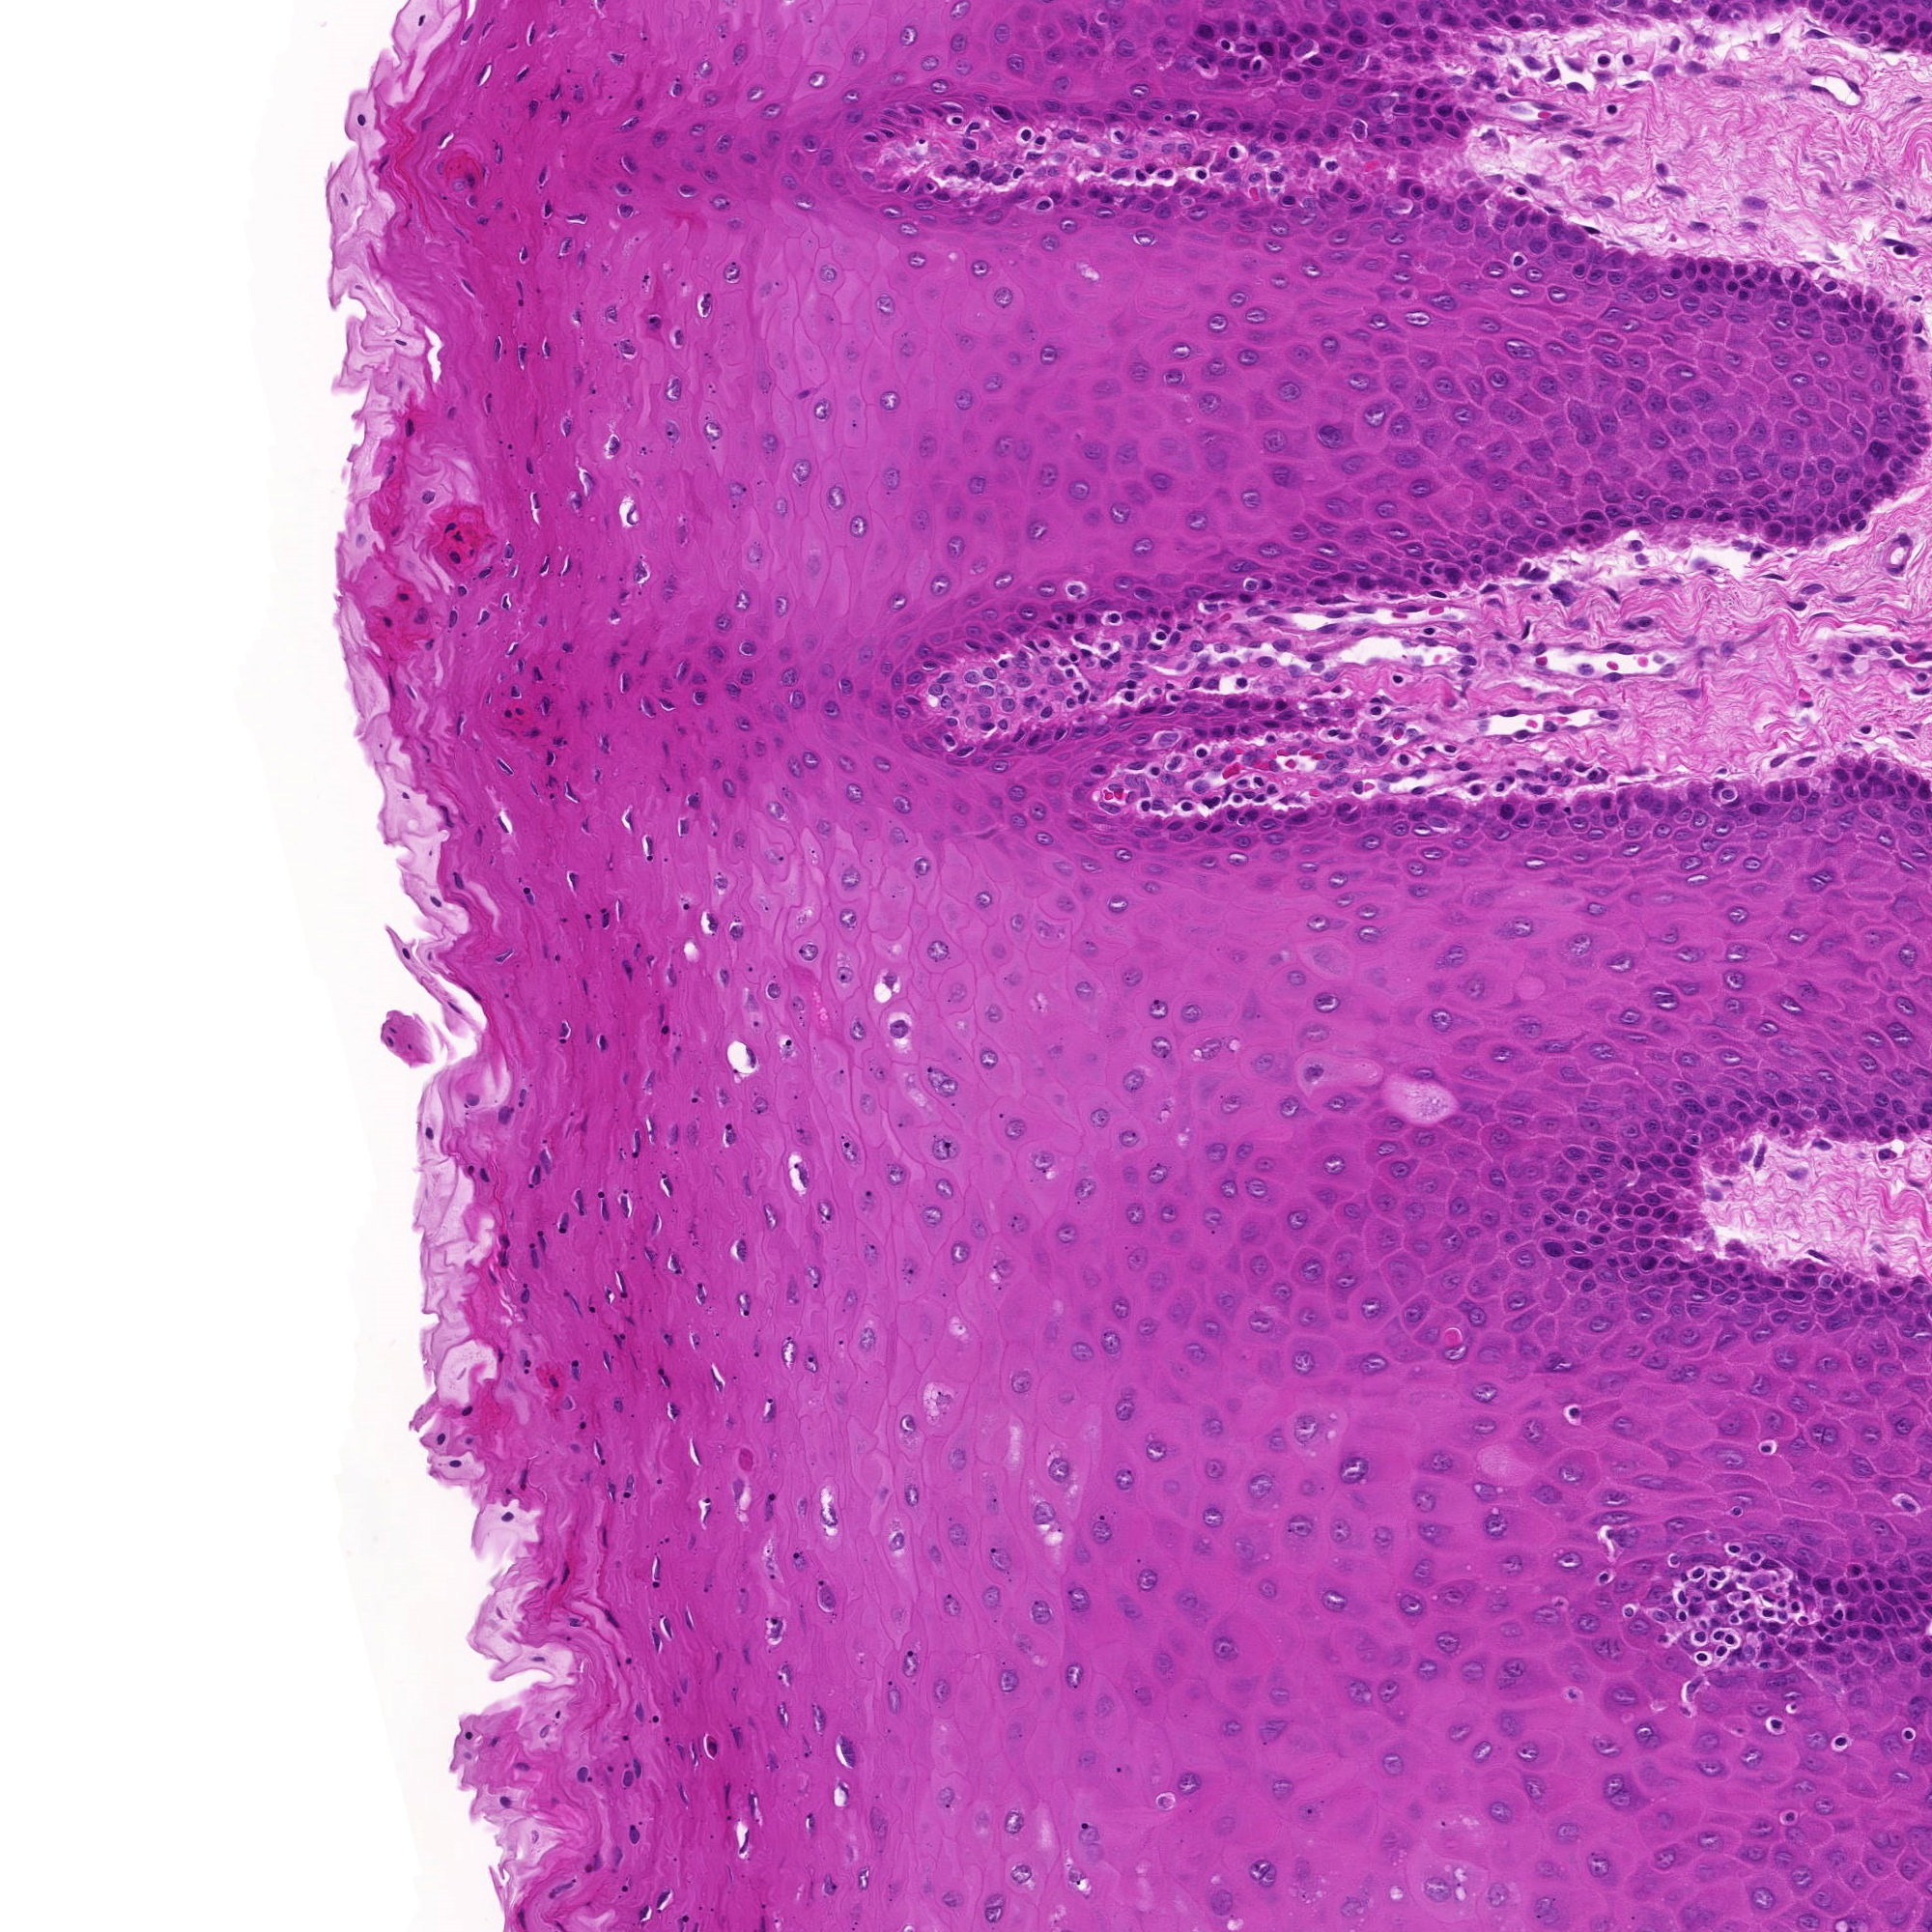epithelial: (1277, 42, 1309, 76), (1079, 713, 1111, 747), (1679, 260, 1713, 292), (1580, 241, 1612, 274), (1548, 218, 1582, 249), (1796, 513, 1829, 545), (1647, 1152, 1681, 1184), (1587, 1182, 1619, 1215), (455, 163, 487, 195), (366, 149, 398, 180), (456, 1085, 488, 1116), (722, 37, 754, 69), (660, 372, 692, 403), (941, 27, 973, 58), (874, 99, 906, 131), (909, 186, 941, 218), (681, 111, 713, 143), (655, 416, 686, 448), (773, 166, 805, 198), (520, 407, 552, 439), (837, 88, 869, 120), (800, 60, 832, 92), (748, 364, 780, 396), (568, 690, 600, 722), (518, 717, 550, 748), (732, 632, 764, 663), (915, 648, 947, 679), (589, 727, 621, 759), (915, 727, 947, 759), (488, 750, 520, 782), (610, 665, 642, 697), (870, 653, 902, 685), (628, 642, 660, 674), (743, 731, 775, 763), (844, 510, 876, 541), (485, 941, 517, 973), (727, 759, 759, 791), (883, 1012, 915, 1044), (488, 1099, 520, 1131), (603, 1322, 635, 1353), (879, 1157, 911, 1189), (720, 1718, 752, 1750), (665, 1776, 697, 1808), (589, 1518, 621, 1550), (731, 1637, 763, 1668), (862, 1808, 893, 1840), (692, 1493, 724, 1525), (718, 1675, 750, 1707), (1272, 27, 1304, 58), (1277, 58, 1309, 90), (1357, 71, 1389, 103), (1405, 76, 1437, 108), (1316, 16, 1348, 48), (1263, 119, 1295, 150), (1129, 99, 1161, 131), (1387, 81, 1419, 113), (1389, 124, 1421, 156), (1000, 48, 1031, 80), (1295, 55, 1327, 87), (1148, 195, 1180, 226), (1164, 88, 1196, 120), (1410, 120, 1442, 152), (1361, 88, 1392, 120), (1079, 16, 1111, 48), (1293, 23, 1325, 55), (1346, 97, 1378, 129), (1231, 202, 1263, 234), (1077, 27, 1109, 58), (1233, 340, 1265, 372), (1212, 96, 1244, 127), (1272, 184, 1304, 216), (984, 16, 1016, 48), (1166, 50, 1198, 81), (1210, 55, 1242, 87), (1231, 55, 1263, 87), (1323, 170, 1355, 202), (1265, 110, 1297, 142), (1309, 51, 1341, 83), (1201, 34, 1233, 65), (1361, 50, 1392, 81), (1141, 175, 1173, 207), (1182, 195, 1214, 226), (1318, 39, 1350, 71), (1387, 103, 1419, 134), (1086, 193, 1118, 225), (1168, 172, 1200, 203), (1254, 46, 1286, 78), (1129, 218, 1161, 249), (962, 464, 994, 495), (1256, 228, 1288, 260), (1410, 193, 1442, 225), (1286, 188, 1318, 219), (1306, 568, 1338, 600), (1129, 577, 1161, 609), (1371, 564, 1403, 596), (1215, 796, 1247, 828), (1327, 796, 1359, 828), (1131, 694, 1162, 725), (1001, 612, 1033, 644), (1224, 715, 1256, 747), (1412, 550, 1444, 582), (1364, 794, 1396, 826), (1325, 575, 1357, 607), (1338, 550, 1369, 582), (1042, 591, 1074, 623), (1030, 573, 1062, 605), (1309, 511, 1341, 543), (1196, 589, 1228, 621), (980, 786, 1012, 817), (1256, 821, 1288, 853), (1394, 543, 1426, 575), (1108, 839, 1139, 870), (1272, 801, 1304, 833), (1039, 602, 1070, 633), (1244, 801, 1276, 833), (1421, 805, 1453, 837), (1224, 837, 1256, 869), (959, 582, 991, 614), (1166, 591, 1198, 623), (1378, 1106, 1410, 1138), (1284, 1203, 1316, 1235), (1152, 1194, 1184, 1226), (1408, 1122, 1440, 1154), (1104, 1290, 1136, 1322), (1118, 1200, 1150, 1231), (1093, 1327, 1125, 1359), (1051, 1214, 1083, 1246), (1320, 1154, 1352, 1185), (1198, 1410, 1230, 1442), (1357, 1286, 1389, 1318), (1000, 1205, 1031, 1237), (1247, 1854, 1279, 1886), (975, 1895, 1007, 1927), (1196, 1497, 1228, 1529), (1054, 1658, 1086, 1690), (1343, 1458, 1375, 1490), (1001, 1808, 1033, 1840), (1368, 1522, 1399, 1553), (1088, 1518, 1120, 1550), (1007, 1854, 1039, 1886), (1865, 433, 1897, 465), (1520, 228, 1552, 260), (1780, 271, 1812, 303), (1548, 235, 1580, 267), (1867, 333, 1898, 364), (1881, 449, 1913, 481), (1562, 253, 1594, 285), (1601, 249, 1633, 281), (1619, 370, 1651, 402), (1661, 455, 1693, 487), (1794, 455, 1826, 487), (1773, 456, 1805, 488), (1500, 334, 1532, 366), (1714, 414, 1746, 446), (1867, 402, 1898, 433), (1789, 402, 1821, 433), (1879, 2, 1911, 34), (1477, 2, 1509, 34), (1851, 318, 1882, 350), (1895, 410, 1927, 442), (1610, 265, 1642, 297), (1729, 437, 1760, 469), (1755, 444, 1787, 476), (1633, 278, 1665, 310), (1709, 462, 1741, 494), (1591, 242, 1622, 274), (1491, 191, 1523, 223), (1465, 216, 1497, 248), (1619, 246, 1651, 278), (1771, 384, 1803, 416), (1739, 272, 1771, 304), (1499, 400, 1530, 432), (1882, 366, 1914, 398), (1591, 435, 1622, 467), (1472, 306, 1504, 338), (1626, 389, 1658, 421), (1479, 356, 1511, 387), (1713, 278, 1744, 310), (1571, 504, 1603, 536), (1741, 791, 1773, 823), (1679, 495, 1711, 527), (1598, 495, 1629, 527), (1476, 533, 1507, 564), (1829, 502, 1861, 534), (1658, 497, 1690, 529), (1833, 759, 1865, 791), (1589, 786, 1621, 817), (1718, 789, 1750, 821), (1771, 778, 1803, 810), (1821, 510, 1852, 541), (1789, 502, 1821, 534), (1730, 495, 1762, 527), (1752, 492, 1783, 524), (1456, 552, 1488, 584), (1884, 789, 1916, 821), (1502, 527, 1534, 559), (1608, 508, 1640, 540), (1476, 552, 1507, 584), (1509, 485, 1541, 517), (1805, 860, 1836, 892), (1594, 803, 1626, 835), (1511, 518, 1543, 550), (1859, 796, 1891, 828), (1527, 504, 1559, 536), (1649, 793, 1681, 824), (1484, 536, 1516, 568), (1771, 485, 1803, 517), (1748, 786, 1780, 817), (1445, 547, 1477, 579), (1453, 810, 1484, 842), (1879, 782, 1911, 814), (1723, 800, 1755, 832), (1603, 800, 1635, 832), (1775, 791, 1806, 823), (1497, 534, 1529, 566), (1539, 796, 1571, 828), (1619, 823, 1651, 855), (1502, 513, 1534, 545), (1624, 479, 1656, 511), (1681, 801, 1713, 833), (1569, 839, 1601, 870), (1714, 835, 1746, 867), (1619, 789, 1651, 821), (1633, 1247, 1665, 1279), (1629, 1212, 1661, 1244), (1644, 1145, 1675, 1177), (1608, 1207, 1640, 1238), (1652, 1246, 1684, 1277), (1656, 1200, 1688, 1231), (1612, 1146, 1644, 1178), (1663, 1157, 1695, 1189), (1679, 1093, 1711, 1125), (1559, 1138, 1591, 1169), (1548, 1192, 1580, 1224), (1881, 1274, 1913, 1306), (1865, 1083, 1897, 1115), (1562, 1230, 1594, 1261), (1589, 1131, 1621, 1162), (1615, 1258, 1647, 1290), (1884, 1408, 1916, 1440), (1592, 1192, 1624, 1224), (1571, 1253, 1603, 1284), (1725, 1085, 1757, 1116), (1824, 1108, 1856, 1139), (1667, 1210, 1698, 1242), (1633, 1237, 1665, 1269), (1723, 1253, 1755, 1284), (1559, 1253, 1591, 1284), (1766, 1300, 1798, 1332), (1479, 1161, 1511, 1192), (1474, 1203, 1506, 1235), (1704, 1253, 1736, 1284), (1812, 1348, 1844, 1380), (1759, 1106, 1790, 1138), (1886, 1102, 1918, 1134), (1486, 1035, 1518, 1067), (1665, 1134, 1697, 1166), (1844, 1345, 1875, 1376), (1856, 1293, 1888, 1325), (1672, 1357, 1704, 1389), (1661, 1116, 1693, 1148), (1771, 1348, 1803, 1380), (1757, 1405, 1789, 1437), (1640, 1210, 1672, 1242), (1750, 1100, 1782, 1132), (1484, 1122, 1516, 1154), (1566, 1200, 1598, 1231), (1509, 1242, 1541, 1274), (1663, 1269, 1695, 1300), (1587, 1306, 1619, 1338), (1707, 1327, 1739, 1359), (1897, 1368, 1928, 1399), (1626, 1300, 1658, 1332), (1454, 1215, 1486, 1247), (1897, 1108, 1928, 1139), (1755, 1309, 1787, 1341), (1845, 1272, 1877, 1304), (1891, 1021, 1923, 1053), (1599, 1254, 1631, 1286), (1741, 1320, 1773, 1352), (1541, 1201, 1573, 1233), (1881, 1297, 1913, 1329), (1835, 1284, 1867, 1316), (1888, 1300, 1920, 1332), (1713, 1086, 1744, 1118), (1454, 1090, 1486, 1122), (1851, 1300, 1882, 1332), (1757, 1062, 1789, 1093), (1852, 1348, 1884, 1380), (1661, 1277, 1693, 1309), (1766, 1290, 1798, 1322), (1555, 1261, 1587, 1293), (1644, 978, 1675, 1010), (1750, 1074, 1782, 1106), (1640, 1242, 1672, 1274), (1509, 1293, 1541, 1325), (1836, 1615, 1868, 1647), (1863, 1569, 1895, 1601), (1847, 1569, 1879, 1601), (1805, 1612, 1836, 1644), (1752, 1548, 1783, 1580), (1798, 1633, 1829, 1665), (375, 1017, 405, 1051), (685, 127, 715, 161), (1201, 48, 1235, 78), (1178, 50, 1212, 80), (1185, 179, 1219, 209), (1157, 104, 1191, 134), (1348, 69, 1382, 99), (1401, 534, 1431, 568), (1254, 807, 1284, 840), (1185, 711, 1215, 745), (1679, 280, 1713, 310), (1752, 278, 1782, 311), (1782, 364, 1815, 395), (1882, 770, 1913, 803), (1612, 803, 1642, 837), (1812, 1277, 1842, 1311), (1674, 1086, 1704, 1120), (1799, 1100, 1833, 1131), (1635, 1173, 1665, 1207), (425, 152, 456, 182), (464, 58, 494, 90), (375, 453, 405, 485), (458, 180, 488, 212), (453, 269, 483, 301), (435, 396, 467, 426), (442, 708, 474, 738), (708, 127, 740, 157), (506, 338, 538, 368), (925, 180, 957, 211), (934, 94, 964, 126), (734, 142, 764, 173), (897, 94, 927, 126), (759, 122, 789, 154), (481, 331, 511, 363), (695, 83, 727, 113), (671, 173, 702, 203), (517, 92, 548, 122), (888, 170, 918, 202), (922, 96, 954, 126), (755, 426, 786, 458), (483, 138, 513, 170), (616, 108, 646, 140), (552, 412, 582, 444), (911, 428, 941, 460), (885, 97, 916, 127), (924, 69, 954, 101), (663, 71, 694, 103), (823, 165, 853, 196), (780, 143, 812, 173), (510, 237, 540, 269), (738, 76, 768, 108), (807, 396, 839, 426), (893, 18, 924, 50), (754, 94, 786, 124), (901, 103, 931, 134), (566, 241, 596, 272), (531, 688, 563, 718), (701, 637, 732, 667), (727, 708, 759, 738), (782, 683, 814, 713), (499, 676, 529, 708), (625, 554, 655, 586), (598, 642, 628, 674), (711, 773, 743, 803), (529, 550, 561, 580), (563, 485, 593, 517), (492, 697, 522, 729), (904, 851, 936, 881), (939, 495, 970, 527), (886, 697, 918, 727), (796, 743, 826, 775), (881, 584, 913, 614), (554, 550, 584, 582), (522, 485, 552, 517), (764, 697, 794, 729), (770, 637, 800, 669), (849, 678, 879, 709), (924, 628, 955, 658), (727, 584, 759, 614), (727, 1233, 757, 1265), (757, 975, 789, 1005), (842, 1014, 874, 1044), (635, 1063, 665, 1095), (639, 1207, 669, 1238), (895, 1407, 925, 1438), (709, 959, 740, 991), (731, 1169, 763, 1200), (568, 1109, 598, 1141), (658, 961, 688, 993), (833, 1131, 865, 1161), (658, 1118, 690, 1148), (745, 1093, 775, 1125), (801, 1265, 833, 1295), (895, 1254, 927, 1284), (805, 1702, 837, 1732), (812, 1582, 842, 1614), (883, 1523, 915, 1553), (794, 1806, 826, 1836), (667, 1734, 697, 1766), (895, 1479, 927, 1509), (722, 1474, 752, 1506), (816, 1500, 847, 1530), (927, 1674, 959, 1704), (847, 1861, 878, 1893), (672, 1605, 702, 1637), (1191, 16, 1223, 46), (1235, 14, 1267, 44), (1341, 21, 1371, 53), (1242, 50, 1272, 81), (1405, 97, 1437, 127), (1311, 34, 1343, 64), (1228, 48, 1258, 80), (1371, 4, 1403, 34), (1231, 34, 1263, 64), (1387, 92, 1417, 124), (1405, 106, 1435, 138), (1215, 12, 1246, 44), (1212, 46, 1244, 76), (1384, 18, 1415, 48), (1210, 28, 1240, 60), (1315, 60, 1346, 90), (1203, 110, 1233, 142), (1315, 418, 1346, 448), (1316, 117, 1348, 147), (1405, 87, 1435, 119), (1322, 5, 1353, 35), (1343, 193, 1373, 225), (1286, 120, 1318, 150), (1097, 101, 1127, 133), (1171, 106, 1201, 138), (1417, 186, 1447, 218), (1092, 182, 1122, 214), (1185, 34, 1215, 65), (1419, 78, 1449, 110), (1311, 182, 1341, 214), (1288, 34, 1320, 64), (1343, 4, 1373, 35), (1387, 405, 1417, 437), (1415, 18, 1445, 50), (1362, 122, 1392, 154), (1035, 338, 1067, 368), (1307, 39, 1338, 71), (1338, 41, 1369, 71), (1394, 74, 1424, 106), (1196, 180, 1228, 211), (1276, 375, 1307, 405), (1343, 113, 1373, 145), (1272, 50, 1302, 81), (1332, 85, 1362, 117), (1414, 345, 1445, 375), (1141, 88, 1171, 120), (1109, 90, 1141, 120), (1182, 19, 1214, 50), (1191, 386, 1223, 416), (1246, 117, 1276, 149), (1212, 67, 1244, 97), (1410, 37, 1442, 67), (1283, 27, 1315, 57), (1111, 437, 1141, 469), (1069, 9, 1099, 41), (1261, 34, 1292, 65), (1361, 395, 1392, 425), (1332, 12, 1364, 42), (1215, 35, 1246, 67), (1348, 27, 1380, 57), (1214, 188, 1246, 218), (1338, 448, 1368, 479), (1125, 354, 1155, 386), (1417, 115, 1447, 147), (1171, 96, 1201, 127), (1368, 73, 1399, 103), (1392, 37, 1424, 67), (1306, 58, 1336, 90), (1391, 242, 1421, 274), (1398, 196, 1430, 226), (1362, 304, 1394, 334), (1033, 460, 1065, 490), (1300, 120, 1332, 150), (1339, 57, 1369, 88), (1240, 25, 1270, 57), (1332, 30, 1362, 62), (1401, 186, 1431, 218), (1221, 281, 1253, 311), (1125, 71, 1155, 103), (1203, 444, 1233, 476), (1246, 195, 1277, 225), (1223, 65, 1253, 97), (1145, 464, 1175, 495), (1224, 28, 1256, 58), (1373, 96, 1405, 126), (984, 432, 1016, 462), (1122, 184, 1152, 216), (1265, 264, 1295, 295), (1072, 180, 1102, 212), (1100, 188, 1132, 218), (1408, 464, 1438, 495), (1290, 42, 1322, 73), (1380, 219, 1412, 249), (1086, 106, 1118, 136), (989, 281, 1021, 311), (1325, 241, 1357, 271), (1288, 60, 1318, 92), (1279, 113, 1311, 143), (1369, 278, 1399, 310), (1348, 48, 1378, 80), (1265, 212, 1295, 244), (1304, 188, 1334, 219), (1224, 188, 1254, 219), (1325, 563, 1357, 593), (1281, 805, 1313, 835), (1401, 800, 1431, 832), (1224, 690, 1256, 720), (1231, 552, 1263, 582), (1343, 520, 1375, 550), (1304, 550, 1336, 580), (1017, 725, 1049, 755), (1200, 580, 1231, 610), (1235, 798, 1267, 828), (1132, 598, 1164, 628), (1228, 582, 1260, 612), (1361, 543, 1392, 573), (1185, 810, 1217, 840), (1214, 713, 1244, 745), (984, 623, 1014, 655), (1284, 517, 1315, 548), (1373, 793, 1403, 824), (1063, 717, 1095, 747), (1012, 594, 1042, 626), (1316, 566, 1348, 596), (1201, 717, 1231, 748), (1150, 598, 1180, 630), (1215, 686, 1246, 718), (1062, 807, 1092, 839), (1336, 801, 1368, 832), (1396, 556, 1426, 587), (1019, 513, 1051, 543), (1127, 722, 1157, 754), (1097, 731, 1127, 763), (1024, 796, 1054, 828), (1384, 814, 1415, 844), (1127, 817, 1159, 847), (1226, 803, 1256, 835), (1233, 571, 1263, 603), (1194, 697, 1226, 727), (1007, 607, 1039, 637), (1044, 718, 1076, 748), (961, 628, 991, 660), (1272, 699, 1302, 731), (1178, 502, 1210, 533), (1037, 764, 1069, 794), (1003, 805, 1033, 837), (1191, 582, 1223, 612), (1125, 534, 1157, 564), (1141, 807, 1171, 839), (1171, 584, 1201, 616), (1343, 563, 1375, 593), (1164, 694, 1196, 724), (1253, 531, 1283, 563), (1106, 499, 1138, 529), (1401, 876, 1433, 906), (1217, 814, 1247, 846), (1102, 890, 1132, 922), (984, 748, 1016, 778), (959, 616, 991, 646), (1373, 552, 1403, 584), (1419, 538, 1449, 570), (1077, 501, 1108, 533), (1408, 805, 1440, 835), (1065, 775, 1097, 805), (1169, 821, 1201, 851), (1361, 568, 1392, 598), (1297, 575, 1329, 605), (1279, 577, 1311, 607), (1139, 605, 1171, 635), (962, 745, 994, 775), (1210, 699, 1240, 731), (1196, 563, 1226, 594), (1185, 697, 1215, 729), (1178, 708, 1210, 738), (1028, 722, 1060, 752), (1267, 571, 1299, 602), (1407, 853, 1437, 885), (968, 885, 998, 916), (1421, 554, 1451, 586), (1290, 801, 1322, 832), (1240, 561, 1270, 593), (1394, 809, 1424, 840), (1267, 821, 1299, 851), (1221, 554, 1253, 584), (1385, 1154, 1417, 1184), (1401, 1297, 1433, 1327), (1297, 1253, 1327, 1284), (1267, 1277, 1299, 1307), (1307, 984, 1338, 1016), (1371, 1185, 1401, 1217), (1233, 1219, 1265, 1249), (1338, 1196, 1368, 1228), (1226, 1136, 1258, 1166), (1242, 1249, 1274, 1279), (1327, 1086, 1357, 1118), (1405, 1230, 1435, 1261), (1274, 1088, 1304, 1120), (1357, 1346, 1387, 1378), (1414, 1058, 1444, 1090), (1148, 1035, 1178, 1067), (1246, 1304, 1276, 1336), (1194, 1313, 1226, 1343), (1295, 1300, 1325, 1332), (1414, 1318, 1444, 1350), (1318, 1146, 1350, 1177), (1419, 1003, 1449, 1035), (1182, 1338, 1214, 1368), (1067, 1173, 1099, 1203), (1132, 1313, 1164, 1343), (1244, 1173, 1276, 1203), (1118, 1069, 1150, 1099), (1115, 1120, 1145, 1152), (1067, 973, 1099, 1003), (1378, 1131, 1410, 1161), (1249, 1046, 1281, 1076), (1005, 1369, 1037, 1399), (994, 1665, 1026, 1695), (1136, 1564, 1166, 1596), (1208, 1633, 1240, 1663), (1200, 1456, 1231, 1486), (1203, 1888, 1235, 1918), (1343, 1672, 1375, 1702), (1024, 1596, 1056, 1626), (1394, 1589, 1424, 1621), (1127, 1679, 1159, 1709), (1148, 1647, 1180, 1677), (1086, 1509, 1118, 1539), (1065, 1589, 1095, 1621), (1373, 1672, 1405, 1702), (1108, 1465, 1139, 1495), (1415, 1516, 1445, 1548), (1047, 1454, 1077, 1486), (1414, 1652, 1444, 1684), (1405, 1557, 1437, 1587), (1024, 1500, 1056, 1530), (1267, 1771, 1297, 1803), (1293, 1796, 1325, 1826), (1185, 1532, 1217, 1562), (982, 1537, 1012, 1569), (1316, 1578, 1348, 1608), (1716, 271, 1748, 301), (1684, 271, 1716, 301), (1660, 258, 1691, 288), (1826, 288, 1856, 320), (1734, 267, 1764, 299), (1808, 449, 1838, 481), (1897, 396, 1927, 428), (1796, 299, 1828, 329), (1851, 303, 1881, 334), (1868, 303, 1898, 334), (1582, 258, 1612, 290), (1599, 262, 1631, 292), (1534, 368, 1564, 400), (1642, 425, 1674, 455), (1882, 324, 1913, 356), (1506, 203, 1536, 235), (1484, 364, 1516, 395), (1872, 462, 1902, 494), (1895, 18, 1927, 48), (1571, 257, 1603, 287), (1447, 207, 1477, 239), (1688, 382, 1718, 414), (1842, 287, 1874, 317), (1675, 253, 1706, 285), (1665, 412, 1697, 442), (1888, 444, 1918, 476), (1744, 414, 1775, 446), (1520, 203, 1552, 234), (1592, 407, 1622, 439), (1854, 292, 1886, 322), (1859, 326, 1890, 357), (1897, 435, 1928, 465), (1525, 433, 1555, 465), (1877, 310, 1907, 341), (1859, 306, 1890, 338), (1865, 449, 1897, 479), (1675, 287, 1706, 318), (1461, 7, 1493, 37), (1479, 435, 1511, 465), (1842, 299, 1874, 329), (1769, 295, 1799, 327), (1895, 384, 1927, 414), (1681, 439, 1713, 469), (1541, 225, 1573, 255), (1663, 391, 1695, 421), (1479, 251, 1511, 281), (1819, 320, 1849, 352), (1445, 5, 1477, 35), (1736, 458, 1767, 488), (1721, 301, 1752, 333), (1813, 287, 1844, 318), (1775, 421, 1805, 453), (1698, 294, 1729, 326), (1486, 203, 1516, 235), (1704, 264, 1734, 295), (1672, 356, 1704, 386), (1854, 428, 1884, 460), (1621, 345, 1652, 375), (1548, 462, 1580, 492), (1897, 423, 1927, 455), (1842, 380, 1874, 410), (1803, 274, 1835, 304), (1456, 184, 1488, 214), (1541, 276, 1571, 308), (1562, 402, 1594, 432), (1461, 373, 1491, 405), (1805, 288, 1835, 320), (1507, 449, 1537, 481), (1608, 244, 1640, 274), (1596, 297, 1626, 329), (1596, 345, 1626, 377), (1453, 271, 1484, 301), (1845, 5, 1875, 37), (1773, 281, 1805, 311), (1591, 322, 1622, 352), (1790, 318, 1822, 349), (1838, 456, 1868, 488), (1707, 297, 1739, 327), (1872, 442, 1904, 472), (1652, 322, 1684, 352), (1619, 379, 1649, 410), (1645, 55, 1677, 85), (1845, 423, 1877, 453), (1867, 414, 1898, 444), (1881, 437, 1911, 469), (1881, 426, 1913, 456), (1704, 287, 1734, 318), (1594, 418, 1624, 449), (1557, 322, 1587, 354), (1720, 290, 1750, 322), (1801, 426, 1831, 458), (1789, 292, 1819, 324), (1437, 287, 1467, 318), (1810, 464, 1842, 494), (1502, 271, 1532, 303), (1537, 407, 1569, 437), (1661, 356, 1693, 386), (1704, 416, 1736, 446), (1642, 276, 1674, 306), (1665, 310, 1697, 340), (1536, 235, 1568, 265), (1451, 375, 1483, 405), (1755, 269, 1787, 299), (1872, 19, 1904, 50), (1578, 499, 1608, 531), (1890, 778, 1920, 810), (1709, 501, 1741, 531), (1759, 515, 1790, 545), (1458, 543, 1490, 573), (1840, 479, 1872, 510), (1530, 527, 1562, 557), (1893, 770, 1923, 801), (1507, 805, 1539, 835), (1658, 791, 1690, 821), (1700, 488, 1732, 518), (1798, 782, 1828, 814), (1642, 488, 1672, 520), (1637, 789, 1667, 821), (1865, 770, 1897, 800), (1490, 796, 1522, 826), (1575, 513, 1605, 545), (1844, 766, 1874, 798), (1628, 504, 1658, 536), (1782, 775, 1813, 805), (1493, 543, 1525, 573), (1845, 490, 1877, 520), (1628, 784, 1658, 816), (1456, 527, 1486, 559), (1821, 786, 1851, 817), (1598, 483, 1629, 513), (1606, 791, 1637, 823), (1564, 805, 1594, 837), (1495, 506, 1525, 538), (1562, 513, 1594, 543), (1773, 520, 1805, 550), (1803, 495, 1833, 527), (1757, 777, 1789, 807), (1875, 761, 1905, 793), (1870, 821, 1900, 853), (1534, 805, 1564, 837), (1693, 826, 1725, 856), (1587, 502, 1617, 534), (1594, 794, 1624, 826), (1541, 520, 1571, 552), (1481, 816, 1511, 847), (1799, 865, 1829, 897), (1612, 497, 1642, 529), (1619, 810, 1649, 842), (1714, 798, 1744, 830), (1886, 885, 1918, 915), (1897, 793, 1927, 824), (1569, 789, 1599, 821), (1891, 941, 1923, 971), (1852, 759, 1884, 789), (1709, 807, 1739, 839), (1645, 497, 1677, 527), (1437, 796, 1468, 826), (1829, 485, 1859, 517), (1859, 775, 1891, 805), (1516, 801, 1548, 832), (1467, 538, 1499, 568), (1672, 791, 1702, 823), (1619, 492, 1649, 524), (1690, 499, 1720, 531), (1539, 814, 1569, 846), (1778, 511, 1810, 541), (1813, 828, 1844, 860), (1477, 504, 1509, 534), (1672, 847, 1704, 878), (1902, 775, 1932, 807), (1759, 483, 1790, 513), (1766, 786, 1796, 817), (1495, 803, 1527, 833), (1507, 533, 1539, 563), (1573, 487, 1603, 518), (1642, 807, 1672, 839), (1656, 920, 1688, 950), (1727, 936, 1757, 968), (1525, 809, 1557, 839), (1759, 791, 1789, 823), (1447, 800, 1479, 830), (1614, 832, 1645, 862), (1624, 1196, 1656, 1226), (1683, 1261, 1713, 1293), (1654, 1131, 1684, 1162), (1598, 1246, 1628, 1277), (1656, 1261, 1688, 1292), (1637, 1184, 1668, 1214), (1608, 1194, 1640, 1224), (1675, 1132, 1707, 1162), (1769, 1083, 1801, 1113), (1845, 1106, 1877, 1136), (1852, 1279, 1882, 1311), (1812, 1093, 1842, 1125), (1647, 1230, 1679, 1260), (1888, 1115, 1918, 1146), (1821, 1269, 1851, 1300), (1863, 1095, 1895, 1125), (1882, 1016, 1914, 1046), (1580, 1224, 1612, 1254), (1573, 1269, 1603, 1300), (1534, 1203, 1564, 1235), (1580, 1157, 1612, 1187), (1730, 1102, 1762, 1132), (1734, 1265, 1764, 1297), (1606, 1244, 1637, 1276), (1714, 1263, 1746, 1293), (1720, 1090, 1750, 1122), (1695, 1247, 1727, 1277), (1752, 1279, 1783, 1309), (1568, 1162, 1599, 1192), (1534, 1178, 1564, 1210), (1589, 1143, 1619, 1175), (1589, 1201, 1621, 1231), (1867, 1332, 1897, 1364), (1619, 1210, 1651, 1240), (1867, 1109, 1897, 1141), (1610, 1230, 1642, 1260), (1808, 1290, 1840, 1320), (1686, 1276, 1716, 1307), (1493, 1223, 1525, 1253), (1559, 1178, 1591, 1208), (1854, 1047, 1886, 1077), (1651, 1178, 1681, 1210), (1654, 1210, 1686, 1240), (1697, 1118, 1727, 1150), (1665, 1097, 1695, 1129), (1645, 1263, 1675, 1295), (1640, 1281, 1672, 1311), (1504, 1284, 1536, 1315), (1534, 1108, 1566, 1138), (1534, 1215, 1564, 1247), (1759, 1095, 1789, 1127), (1454, 1293, 1484, 1325), (1704, 1106, 1736, 1136), (1831, 1272, 1863, 1302), (1746, 1369, 1778, 1399), (1794, 1076, 1824, 1108), (1741, 1279, 1773, 1309), (1874, 1290, 1904, 1322), (1628, 1187, 1658, 1219), (1792, 975, 1824, 1005), (1895, 1311, 1927, 1341), (1711, 1318, 1741, 1350), (1672, 1044, 1704, 1074), (1881, 1286, 1911, 1318), (1766, 1090, 1796, 1122), (1750, 1316, 1782, 1346), (1640, 1348, 1672, 1378), (1821, 1100, 1851, 1132), (1872, 1100, 1902, 1132), (1787, 1311, 1819, 1341), (1617, 1187, 1647, 1219), (1891, 1065, 1921, 1097), (1619, 1336, 1649, 1368), (1679, 1290, 1711, 1320), (1895, 1323, 1927, 1353), (1805, 1272, 1835, 1304), (1668, 1249, 1700, 1279), (1674, 1322, 1706, 1352), (1617, 1115, 1647, 1146), (1858, 1371, 1888, 1403), (1626, 1132, 1656, 1164), (1670, 1162, 1700, 1194), (1782, 1391, 1813, 1421), (1642, 1254, 1672, 1286), (1585, 1035, 1615, 1067), (1718, 1412, 1748, 1444), (1582, 1210, 1614, 1240), (1677, 1125, 1709, 1155), (1767, 1279, 1799, 1309), (1635, 1143, 1667, 1173), (1824, 1093, 1856, 1123), (1691, 1265, 1723, 1295), (1718, 1272, 1748, 1304), (1736, 1284, 1766, 1316), (1859, 1024, 1891, 1054), (1858, 1100, 1888, 1132), (1592, 1210, 1624, 1240), (1442, 1106, 1472, 1138), (1900, 1267, 1930, 1299), (1778, 1079, 1810, 1109), (1546, 1237, 1576, 1269), (1675, 973, 1707, 1003), (1635, 1200, 1667, 1230), (1635, 1120, 1665, 1152), (1721, 991, 1752, 1023), (1679, 1247, 1711, 1277), (1506, 1306, 1537, 1336), (1782, 1265, 1812, 1297), (1674, 1118, 1706, 1148), (1872, 1353, 1904, 1384), (1852, 1417, 1884, 1447), (1810, 1104, 1842, 1134), (1649, 1164, 1679, 1196), (1566, 1261, 1596, 1293), (1594, 1261, 1624, 1293), (1709, 1304, 1741, 1334), (1645, 1010, 1675, 1042), (1580, 1238, 1610, 1270), (1709, 1364, 1739, 1396), (1771, 1265, 1801, 1297), (1835, 1300, 1867, 1330), (1890, 1279, 1920, 1311), (1867, 1017, 1898, 1047), (1566, 1290, 1598, 1320), (1789, 1100, 1819, 1132), (1626, 1113, 1658, 1143), (1504, 1090, 1536, 1120), (1727, 1279, 1759, 1309), (1635, 1272, 1667, 1302), (1812, 1056, 1842, 1088), (1661, 1293, 1691, 1325), (1780, 1254, 1812, 1284), (1552, 1246, 1582, 1277), (1622, 1293, 1654, 1323), (1573, 1219, 1603, 1251), (1780, 1306, 1812, 1336), (1578, 1309, 1610, 1339), (1806, 1569, 1836, 1601), (1808, 1631, 1838, 1663), (1888, 1598, 1918, 1629), (1836, 1598, 1867, 1629), (1824, 1601, 1856, 1631), (1822, 1571, 1854, 1601), (1863, 1601, 1893, 1633), (1888, 1550, 1918, 1582), (1877, 1582, 1907, 1614), (1752, 1633, 1782, 1665), (1838, 1555, 1870, 1585), (1352, 191, 1385, 219), (1776, 987, 1805, 1021), (409, 108, 439, 138), (428, 122, 458, 152), (465, 205, 495, 235), (464, 819, 494, 849), (405, 602, 435, 632), (380, 517, 410, 547), (644, 122, 674, 152), (794, 126, 824, 156), (616, 149, 646, 179), (695, 159, 725, 189), (812, 142, 842, 172), (839, 101, 869, 131), (563, 80, 593, 110), (718, 257, 748, 287), (540, 78, 570, 108), (612, 333, 642, 363), (672, 150, 702, 180), (918, 184, 948, 214), (708, 188, 738, 218), (596, 299, 626, 329), (563, 361, 593, 391), (642, 163, 672, 193), (876, 198, 906, 228), (789, 184, 819, 214), (731, 662, 761, 692), (816, 692, 846, 722), (908, 635, 938, 665), (832, 669, 862, 699), (522, 658, 552, 688), (775, 662, 805, 692), (924, 644, 954, 674), (708, 607, 738, 637), (901, 662, 931, 692), (869, 692, 899, 722), (718, 674, 748, 704), (669, 655, 699, 685), (655, 571, 685, 602), (881, 665, 911, 695), (925, 566, 955, 596), (724, 824, 754, 855), (939, 531, 970, 561), (886, 791, 916, 821), (667, 518, 697, 548), (701, 748, 731, 778), (614, 501, 644, 531), (502, 697, 533, 727), (867, 748, 897, 778), (833, 904, 863, 934), (925, 669, 955, 699), (839, 780, 869, 810), (849, 639, 879, 669), (548, 1016, 579, 1046), (603, 1389, 633, 1419), (635, 1238, 665, 1269), (593, 1343, 623, 1373), (755, 1396, 786, 1426), (931, 1067, 961, 1097), (755, 1203, 786, 1233), (701, 1364, 731, 1394), (777, 1277, 807, 1307), (637, 1115, 667, 1145), (678, 1118, 708, 1148), (918, 1200, 948, 1230), (766, 1698, 796, 1729), (757, 1748, 787, 1778), (711, 1775, 741, 1805), (816, 1872, 846, 1902), (771, 1656, 801, 1686), (736, 1785, 766, 1815), (702, 1644, 732, 1674), (934, 1583, 964, 1614), (920, 1537, 950, 1568), (1251, 34, 1281, 64), (1270, 37, 1300, 67), (1295, 14, 1325, 44), (1330, 39, 1361, 69), (1300, 46, 1330, 76), (1192, 44, 1223, 74), (1231, 111, 1261, 142), (1286, 18, 1316, 48), (1368, 111, 1398, 142), (1037, 90, 1067, 120), (1336, 67, 1366, 97), (1297, 76, 1327, 106), (1394, 444, 1424, 474), (1145, 27, 1175, 57), (1039, 39, 1069, 69), (1109, 35, 1139, 65), (1338, 179, 1368, 209), (1033, 18, 1063, 48), (1067, 96, 1097, 126), (1316, 331, 1346, 361), (1200, 354, 1230, 384), (1046, 67, 1076, 97), (1159, 361, 1189, 391), (1113, 186, 1143, 216), (1327, 219, 1357, 249), (1001, 182, 1031, 212), (1269, 460, 1299, 490), (1382, 370, 1412, 400), (1077, 437, 1108, 467), (1099, 5, 1129, 35), (1035, 226, 1065, 257), (1295, 67, 1325, 97), (1286, 340, 1316, 370), (1258, 428, 1288, 458), (1240, 37, 1270, 67), (1408, 386, 1438, 416), (1256, 23, 1286, 53), (1074, 35, 1104, 65), (1201, 304, 1231, 334), (1371, 331, 1401, 361), (964, 83, 994, 113), (964, 191, 994, 221), (1361, 4, 1391, 34), (1373, 196, 1403, 226), (1346, 14, 1376, 44), (978, 202, 1008, 232), (1396, 110, 1426, 140), (1247, 19, 1277, 50), (1205, 182, 1235, 212), (1325, 28, 1355, 58), (1054, 211, 1085, 241), (1361, 212, 1391, 242), (964, 253, 994, 283), (1304, 28, 1334, 58), (1194, 25, 1224, 55), (1378, 111, 1408, 142), (1106, 97, 1136, 127), (1357, 402, 1387, 432), (1412, 561, 1442, 591), (1056, 603, 1086, 633), (1350, 568, 1380, 598), (1201, 812, 1231, 842), (1251, 570, 1281, 600), (1118, 600, 1148, 630), (1175, 692, 1205, 722), (1152, 695, 1182, 725), (1086, 589, 1116, 619), (973, 731, 1003, 761), (1277, 564, 1307, 594), (1352, 824, 1382, 855), (1419, 789, 1449, 819), (1304, 692, 1334, 722), (1385, 570, 1415, 600), (1161, 810, 1191, 840), (1384, 513, 1414, 543), (1108, 566, 1138, 596), (1318, 488, 1348, 518), (1313, 531, 1343, 561), (1419, 837, 1449, 867), (1408, 531, 1438, 561), (966, 502, 996, 533), (978, 630, 1008, 660), (1265, 704, 1295, 734), (1192, 846, 1223, 876), (1231, 701, 1261, 731), (1330, 556, 1361, 586), (989, 563, 1019, 593), (1237, 485, 1267, 515), (1108, 711, 1138, 741), (973, 598, 1003, 628), (1316, 545, 1346, 575), (1405, 554, 1435, 584), (1311, 1180, 1341, 1210), (1210, 1286, 1240, 1316), (1299, 1056, 1329, 1086), (1361, 1295, 1391, 1325), (1201, 1134, 1231, 1164), (1417, 1169, 1447, 1200), (1398, 1194, 1428, 1224), (1214, 1169, 1244, 1200), (1373, 1223, 1403, 1253), (1330, 1269, 1361, 1299), (1111, 1398, 1141, 1428), (1290, 1339, 1320, 1369), (1143, 1159, 1173, 1189), (1143, 991, 1173, 1021), (1290, 1405, 1320, 1435), (1086, 1100, 1116, 1131), (1164, 1299, 1194, 1329), (1115, 1159, 1145, 1189), (1001, 1113, 1031, 1143), (1200, 1203, 1230, 1233), (1028, 1148, 1058, 1178), (1215, 1713, 1246, 1743), (1258, 1711, 1288, 1741), (1286, 1511, 1316, 1541), (1173, 1585, 1203, 1615), (1322, 1589, 1352, 1619), (1334, 1445, 1364, 1476), (1060, 1582, 1090, 1612), (1113, 1594, 1143, 1624), (1254, 1575, 1284, 1605), (1246, 1465, 1276, 1495), (1378, 1746, 1408, 1776), (1062, 1863, 1092, 1893), (1783, 285, 1813, 315), (1895, 4, 1925, 34), (1729, 280, 1759, 310), (1890, 419, 1920, 449), (1861, 14, 1891, 44), (1449, 196, 1479, 226), (1831, 306, 1861, 336), (1690, 253, 1720, 283), (1881, 25, 1911, 55), (1760, 278, 1790, 308), (1882, 347, 1913, 377), (1882, 336, 1913, 366), (1539, 214, 1569, 244), (1836, 4, 1867, 34), (1826, 462, 1856, 492), (1642, 389, 1672, 419), (1695, 269, 1725, 299), (1854, 464, 1884, 494), (1573, 423, 1603, 453), (1652, 272, 1683, 303), (1562, 223, 1592, 253), (1842, 416, 1872, 446), (1840, 320, 1870, 350), (1806, 345, 1836, 375), (1633, 262, 1663, 292), (1614, 389, 1644, 419), (1863, 5, 1893, 35), (1720, 343, 1750, 373), (1817, 453, 1847, 483), (1796, 280, 1826, 310), (1622, 267, 1652, 297), (1881, 12, 1911, 42), (1767, 345, 1798, 375), (1868, 343, 1898, 373), (1856, 334, 1886, 364), (1557, 359, 1587, 389), (1449, 400, 1479, 430), (1589, 364, 1619, 395), (1484, 464, 1514, 494), (1465, 180, 1495, 211), (1608, 458, 1638, 488), (1445, 188, 1476, 218), (1509, 384, 1539, 414), (1626, 255, 1656, 285), (1541, 333, 1571, 363), (1815, 412, 1845, 442), (1571, 310, 1601, 340), (1589, 352, 1619, 382), (1557, 241, 1587, 271), (1734, 446, 1764, 476), (1851, 773, 1881, 803), (1748, 499, 1778, 529), (1844, 757, 1874, 787), (1553, 517, 1583, 547), (1859, 764, 1890, 794), (1773, 506, 1803, 536), (1789, 518, 1819, 548), (1835, 777, 1865, 807), (1734, 506, 1764, 536), (1529, 793, 1559, 823), (1806, 510, 1836, 540), (1438, 559, 1468, 589), (1840, 501, 1870, 531), (1863, 754, 1893, 784), (1679, 782, 1709, 812), (1821, 492, 1851, 522), (1468, 502, 1499, 533), (1798, 796, 1828, 826), (1831, 803, 1861, 833), (1900, 812, 1930, 842), (1568, 522, 1598, 552), (1483, 520, 1513, 550), (1520, 529, 1550, 559), (1867, 780, 1897, 810), (1532, 517, 1562, 547), (1601, 786, 1631, 816), (1890, 849, 1920, 879), (1721, 901, 1752, 931), (1766, 773, 1796, 803), (1766, 510, 1796, 540), (1580, 819, 1610, 849), (1451, 540, 1481, 570), (1826, 780, 1856, 810), (1667, 819, 1697, 849), (1782, 1279, 1812, 1309), (1539, 1233, 1569, 1263), (1644, 1198, 1674, 1228), (1759, 1267, 1789, 1297), (1792, 1265, 1822, 1295), (1628, 1150, 1658, 1180), (1870, 1118, 1900, 1148), (1665, 1145, 1695, 1175), (1868, 1284, 1898, 1315), (1819, 1307, 1849, 1338), (1675, 1256, 1706, 1286), (1697, 1086, 1727, 1116), (1748, 1093, 1778, 1123), (1714, 1283, 1744, 1313), (1665, 1256, 1695, 1286), (1702, 1270, 1732, 1300), (1548, 1212, 1578, 1242), (1844, 1295, 1874, 1325), (1444, 1191, 1474, 1221), (1537, 1350, 1568, 1380), (1780, 1106, 1810, 1136), (1897, 1284, 1927, 1315), (1652, 982, 1683, 1012), (1668, 1072, 1698, 1102), (1578, 1109, 1608, 1139), (1750, 1012, 1780, 1042), (1893, 1336, 1923, 1366), (1610, 1180, 1640, 1210), (1509, 1194, 1539, 1224), (1442, 1228, 1472, 1258), (1619, 1249, 1649, 1279), (1723, 962, 1753, 993), (1665, 1361, 1695, 1391), (1444, 1138, 1474, 1168), (1614, 1003, 1644, 1033), (1514, 1012, 1545, 1042), (1628, 1168, 1658, 1198), (1741, 1099, 1771, 1129), (1642, 1161, 1672, 1191), (1504, 1106, 1534, 1136), (1548, 1159, 1578, 1189), (1548, 1350, 1578, 1380), (1736, 1276, 1766, 1306), (1479, 1258, 1509, 1288), (1775, 1274, 1805, 1304), (1736, 1297, 1766, 1327), (1874, 1092, 1904, 1122), (1867, 1297, 1897, 1327), (1605, 1410, 1635, 1440), (1573, 1092, 1603, 1122), (1511, 1334, 1541, 1364), (1624, 1265, 1654, 1295), (1626, 1253, 1656, 1283), (1640, 1090, 1670, 1120), (1819, 1083, 1849, 1113), (1461, 1300, 1491, 1330), (1543, 1189, 1573, 1219), (1465, 1095, 1495, 1125), (1746, 1081, 1776, 1111), (1465, 1274, 1495, 1304), (1732, 1256, 1762, 1286), (1874, 1277, 1904, 1307), (1500, 1155, 1530, 1185), (1555, 1185, 1585, 1215), (1859, 1619, 1890, 1649), (1782, 1633, 1812, 1663), (1881, 1568, 1911, 1598), (1265, 14, 1293, 46), (1424, 94, 1453, 126), (1131, 191, 1162, 219), (1062, 186, 1090, 218), (1414, 421, 1445, 449), (1083, 177, 1111, 209), (1384, 74, 1415, 103), (1177, 30, 1208, 58), (1373, 16, 1401, 48), (1035, 610, 1067, 639), (1047, 600, 1079, 628), (1327, 1240, 1359, 1269), (1336, 1261, 1364, 1293), (1251, 1148, 1279, 1180), (1175, 1766, 1207, 1794), (1863, 315, 1891, 347), (1893, 370, 1925, 398), (1576, 464, 1608, 492), (1812, 306, 1844, 334), (1874, 773, 1902, 805), (1587, 515, 1615, 547), (1461, 800, 1490, 832), (1566, 1246, 1594, 1277), (1755, 1085, 1783, 1116), (1651, 1219, 1679, 1251), (1808, 1419, 1840, 1447), (1679, 1109, 1707, 1141), (1744, 1263, 1773, 1295), (1559, 1196, 1587, 1228), (1891, 1637, 1920, 1668), (842, 39, 870, 69), (906, 506, 936, 534), (936, 1886, 964, 1916), (1422, 108, 1451, 138), (1410, 0, 1440, 28), (1299, 253, 1329, 281), (1311, 23, 1341, 51), (1230, 826, 1260, 855), (1001, 778, 1031, 807), (1177, 579, 1207, 607), (1368, 495, 1398, 524), (1408, 506, 1437, 536), (991, 736, 1021, 764), (1251, 867, 1279, 897), (1175, 1000, 1205, 1028), (1162, 1223, 1191, 1253), (1396, 1304, 1426, 1332), (1072, 1744, 1102, 1773), (1458, 453, 1488, 481), (1902, 12, 1932, 41), (1783, 800, 1813, 828), (1743, 479, 1773, 508), (1829, 768, 1859, 796), (1580, 807, 1610, 835), (1629, 1230, 1660, 1258), (1884, 1093, 1914, 1122), (1637, 1109, 1665, 1139), (1585, 1219, 1615, 1247), (1713, 1109, 1741, 1139), (1893, 989, 1923, 1017), (1884, 1062, 1914, 1090), (1651, 1320, 1679, 1350), (1654, 1146, 1684, 1175), (1555, 1060, 1583, 1090)
fibroblast and endothelial: (1679, 51, 1711, 85), (345, 103, 377, 134), (405, 4, 437, 35), (453, 16, 485, 48), (441, 518, 472, 550), (446, 573, 478, 605), (412, 481, 444, 513), (451, 1394, 483, 1426), (464, 1159, 495, 1191), (453, 973, 485, 1005), (506, 58, 538, 90), (524, 334, 556, 366), (855, 122, 886, 154), (690, 285, 722, 317), (602, 41, 633, 73), (899, 172, 931, 203), (513, 449, 545, 481), (563, 299, 594, 331), (511, 876, 543, 908), (685, 671, 717, 702), (685, 681, 717, 713), (570, 809, 602, 840), (488, 1230, 520, 1261), (648, 1359, 679, 1391), (559, 1350, 591, 1382), (538, 1366, 570, 1398), (931, 1129, 962, 1161), (485, 1339, 517, 1371), (575, 1293, 607, 1325), (660, 1247, 692, 1279), (828, 961, 860, 993), (736, 1040, 768, 1072), (796, 1343, 828, 1375), (571, 1192, 603, 1224), (646, 1001, 678, 1033), (492, 1500, 524, 1532), (508, 1463, 540, 1495), (833, 1739, 865, 1771), (729, 1826, 761, 1858), (1129, 156, 1161, 188), (1251, 140, 1283, 172), (1001, 156, 1033, 188), (1309, 145, 1341, 177), (1192, 152, 1224, 184), (1168, 133, 1200, 165), (1063, 122, 1095, 154), (1178, 175, 1210, 207), (1115, 138, 1146, 170), (1244, 134, 1276, 166), (1410, 180, 1442, 212), (1028, 120, 1060, 152), (1152, 133, 1184, 165), (1168, 610, 1200, 642), (1224, 780, 1256, 812), (1076, 603, 1108, 635), (1099, 642, 1131, 674), (1366, 734, 1398, 766), (1129, 789, 1161, 821), (1343, 616, 1375, 648), (1361, 727, 1392, 759), (1014, 632, 1046, 663), (1297, 642, 1329, 674), (970, 706, 1001, 738), (1139, 789, 1171, 821), (1180, 761, 1212, 793), (1421, 579, 1453, 610), (1279, 593, 1311, 625), (1215, 648, 1247, 679), (1157, 748, 1189, 780), (1230, 616, 1261, 648), (1129, 628, 1161, 660), (1253, 780, 1284, 812), (1306, 584, 1338, 616), (1223, 740, 1254, 771), (1129, 773, 1161, 805), (1184, 637, 1215, 669), (1072, 768, 1104, 800), (1154, 791, 1185, 823), (1256, 757, 1288, 789), (1311, 593, 1343, 625), (1263, 681, 1295, 713), (1083, 598, 1115, 630), (1368, 685, 1399, 717), (1203, 743, 1235, 775), (1122, 685, 1154, 717), (1069, 1810, 1100, 1842), (1801, 18, 1833, 50), (1759, 260, 1790, 292), (1566, 4, 1598, 35), (1778, 262, 1810, 294), (1589, 44, 1621, 76), (1486, 81, 1518, 113), (1658, 28, 1690, 60), (1598, 124, 1629, 156), (1522, 5, 1553, 37), (1589, 186, 1621, 218), (1504, 188, 1536, 219), (1741, 536, 1773, 568), (1520, 559, 1552, 591), (1882, 632, 1914, 663), (1610, 633, 1642, 665), (1509, 614, 1541, 646), (1598, 579, 1629, 610), (1831, 642, 1863, 674), (1536, 711, 1568, 743), (1557, 748, 1589, 780), (1451, 649, 1483, 681), (1849, 713, 1881, 745), (1520, 580, 1552, 612), (1499, 761, 1530, 793), (1767, 745, 1799, 777), (1465, 568, 1497, 600), (1709, 775, 1741, 807), (1693, 554, 1725, 586), (1483, 771, 1514, 803), (1499, 793, 1530, 824), (1488, 626, 1520, 658), (1810, 656, 1842, 688), (1440, 610, 1472, 642), (1721, 1233, 1753, 1265), (1725, 1242, 1757, 1274), (439, 529, 469, 563), (387, 676, 421, 706), (870, 120, 904, 150), (1039, 180, 1072, 211), (1039, 663, 1072, 694), (1058, 676, 1088, 709), (1587, 51, 1617, 85), (1847, 630, 1881, 660), (439, 541, 471, 571), (433, 511, 465, 541), (430, 798, 460, 830), (373, 605, 403, 637), (375, 671, 407, 701), (442, 865, 474, 895), (414, 628, 446, 658), (437, 602, 469, 632), (421, 885, 451, 916), (391, 938, 421, 970), (448, 886, 478, 918), (435, 807, 467, 837), (451, 538, 483, 568), (425, 1422, 456, 1453), (439, 1447, 471, 1477), (453, 1720, 485, 1750), (610, 195, 642, 225), (934, 154, 964, 186), (533, 193, 563, 225), (548, 99, 580, 129), (600, 430, 630, 462), (639, 306, 669, 338), (663, 320, 694, 352), (517, 19, 548, 50), (552, 228, 582, 260), (789, 377, 819, 409), (573, 464, 605, 494), (591, 901, 621, 932), (646, 690, 678, 720), (932, 724, 964, 754), (667, 812, 699, 842), (552, 632, 582, 663), (697, 908, 729, 938), (557, 863, 589, 893), (543, 725, 575, 755), (678, 786, 709, 816), (720, 916, 752, 947), (573, 901, 603, 932), (556, 775, 586, 807), (534, 766, 566, 796), (671, 890, 701, 922), (488, 587, 518, 619), (494, 536, 524, 568), (614, 803, 644, 835), (893, 688, 924, 720), (936, 706, 966, 738), (506, 648, 536, 679), (653, 679, 683, 711), (616, 938, 646, 970), (607, 579, 637, 610), (600, 895, 632, 925), (540, 939, 570, 971), (547, 1212, 579, 1242), (522, 1157, 552, 1189), (564, 1189, 596, 1219), (487, 1244, 518, 1274), (527, 1223, 557, 1254), (589, 1194, 621, 1224), (520, 1233, 550, 1265), (621, 1136, 651, 1168), (653, 1168, 683, 1200), (660, 1394, 690, 1426), (510, 1279, 540, 1311), (594, 1277, 626, 1307), (653, 1322, 683, 1353), (511, 1346, 541, 1378), (564, 1410, 596, 1440), (538, 1217, 570, 1247), (874, 964, 906, 994), (731, 1295, 761, 1327), (605, 1263, 637, 1293), (570, 968, 600, 1000), (495, 1341, 527, 1371), (623, 1125, 653, 1157), (529, 1146, 559, 1178), (812, 1200, 844, 1230), (669, 1325, 701, 1355), (853, 1178, 883, 1210), (520, 1244, 550, 1276), (554, 1279, 584, 1311), (614, 1306, 646, 1336), (488, 1785, 520, 1815), (697, 1732, 729, 1762), (550, 1557, 580, 1589), (648, 1881, 678, 1913), (612, 1762, 642, 1794), (568, 1759, 598, 1790), (755, 1481, 786, 1513), (617, 1819, 649, 1849), (612, 1474, 642, 1506), (579, 1847, 609, 1879), (626, 1897, 658, 1927), (832, 1730, 862, 1762), (596, 1472, 626, 1504), (559, 1605, 589, 1637), (640, 1568, 671, 1599), (492, 1488, 522, 1520), (782, 1539, 812, 1571), (626, 1700, 658, 1730), (895, 1638, 925, 1670), (508, 1750, 540, 1780), (492, 1476, 522, 1507), (538, 1877, 570, 1907), (533, 1568, 564, 1598), (479, 1725, 510, 1757), (602, 1840, 633, 1870), (610, 1872, 640, 1904), (602, 1479, 633, 1509), (541, 1698, 573, 1729), (985, 97, 1017, 127), (1401, 175, 1431, 207), (1017, 140, 1047, 172), (1010, 119, 1042, 149), (1391, 170, 1422, 200), (959, 152, 989, 184), (1297, 143, 1329, 173), (1318, 152, 1348, 184), (1210, 143, 1240, 175), (1152, 157, 1182, 189), (1051, 119, 1081, 150), (971, 161, 1003, 191), (959, 110, 989, 142), (1240, 161, 1272, 191), (1139, 117, 1169, 149), (1215, 161, 1246, 193), (1203, 150, 1235, 180), (1079, 168, 1109, 200), (1136, 152, 1168, 182), (1399, 126, 1431, 156), (1240, 129, 1270, 161), (1000, 99, 1030, 131), (1419, 65, 1449, 97), (1005, 168, 1037, 198), (1108, 150, 1138, 182), (1196, 784, 1226, 816), (1256, 690, 1288, 720), (1115, 669, 1146, 699), (1192, 669, 1224, 699), (1398, 593, 1428, 625), (1256, 708, 1286, 740), (1242, 782, 1274, 812), (1065, 621, 1097, 651), (1414, 616, 1445, 646), (1145, 617, 1175, 649), (1139, 632, 1169, 663), (1267, 690, 1297, 722), (1246, 690, 1276, 722), (1254, 724, 1286, 754), (1063, 683, 1095, 713), (1024, 628, 1054, 660), (1382, 663, 1412, 695), (1361, 692, 1392, 722), (1258, 605, 1290, 635), (1159, 623, 1189, 655), (1348, 593, 1378, 625), (1214, 740, 1244, 771), (1056, 644, 1086, 676), (1315, 584, 1346, 614), (1307, 706, 1339, 736), (1415, 626, 1445, 658), (1031, 697, 1062, 729), (1267, 630, 1299, 660), (1332, 695, 1362, 727), (1109, 695, 1139, 727), (1260, 775, 1290, 807), (1031, 635, 1062, 667), (1003, 720, 1033, 752), (1249, 646, 1279, 678), (1311, 770, 1341, 801), (1376, 763, 1408, 793), (1069, 632, 1100, 662), (975, 656, 1005, 688), (1146, 759, 1178, 789), (1403, 757, 1433, 789), (1014, 685, 1046, 715), (1010, 644, 1042, 674), (1233, 589, 1265, 619), (1269, 784, 1300, 814), (1074, 681, 1106, 711), (1238, 594, 1269, 626), (1054, 686, 1085, 718), (971, 674, 1001, 706), (1106, 775, 1136, 807), (1382, 713, 1414, 743), (1007, 651, 1037, 683), (1194, 794, 1224, 826), (1357, 740, 1389, 770), (1325, 586, 1355, 617), (1007, 665, 1037, 697), (1364, 715, 1394, 747), (1320, 766, 1350, 798), (1412, 571, 1444, 602), (1332, 593, 1364, 623), (1095, 793, 1127, 823), (1235, 713, 1267, 743), (1185, 658, 1215, 690), (1299, 676, 1329, 708), (1056, 633, 1086, 665), (1240, 754, 1272, 784), (1122, 623, 1154, 653), (1037, 623, 1067, 655), (1146, 686, 1178, 717), (1192, 743, 1223, 775), (1405, 729, 1435, 761), (1299, 724, 1330, 754), (1334, 1456, 1364, 1488), (1884, 234, 1916, 264), (1447, 101, 1477, 133), (1500, 5, 1530, 37), (1474, 64, 1504, 96), (1559, 71, 1591, 101), (1706, 253, 1736, 285), (1576, 214, 1606, 246), (1470, 30, 1502, 60), (1612, 44, 1642, 76), (1569, 117, 1599, 149), (1815, 269, 1847, 299), (1875, 228, 1907, 258), (1490, 4, 1520, 35), (1847, 23, 1877, 55), (1537, 58, 1569, 88), (1559, 136, 1589, 168), (1838, 71, 1868, 103), (1559, 57, 1589, 88), (1530, 90, 1560, 122), (1645, 152, 1675, 184), (1759, 23, 1789, 55), (1656, 175, 1688, 205), (1541, 104, 1573, 134), (1684, 209, 1714, 241), (1536, 195, 1568, 225), (1900, 311, 1930, 343), (1474, 119, 1504, 150), (1552, 5, 1583, 35), (1792, 249, 1824, 280), (1792, 271, 1822, 303), (1884, 189, 1916, 219), (1789, 260, 1819, 292), (1895, 234, 1925, 265), (1564, 124, 1594, 156), (1461, 65, 1493, 96), (1649, 166, 1679, 198), (1553, 50, 1585, 80), (1674, 27, 1706, 57), (1845, 510, 1877, 540), (1541, 575, 1573, 605), (1495, 697, 1527, 727), (1571, 754, 1601, 786), (1546, 582, 1578, 612), (1490, 766, 1522, 796), (1619, 607, 1649, 639), (1881, 554, 1913, 584), (1599, 660, 1629, 692), (1474, 571, 1504, 603), (1552, 694, 1582, 725), (1631, 605, 1661, 637), (1523, 773, 1553, 805), (1580, 759, 1610, 791), (1838, 633, 1870, 663), (1545, 763, 1576, 793), (1447, 750, 1477, 782), (1888, 524, 1918, 556), (1453, 763, 1484, 793), (1511, 557, 1541, 589), (1612, 621, 1642, 653), (1509, 757, 1539, 789), (1591, 699, 1622, 729), (1704, 768, 1734, 800), (1499, 633, 1530, 663), (1619, 531, 1651, 561), (1507, 718, 1537, 750), (1525, 633, 1555, 665), (1824, 757, 1854, 789), (1451, 635, 1481, 667), (1891, 718, 1921, 750), (1631, 566, 1663, 596), (1548, 754, 1580, 784), (1865, 628, 1895, 660), (1792, 688, 1822, 720), (1736, 531, 1766, 563), (1829, 582, 1859, 614), (1477, 586, 1507, 617), (1596, 642, 1626, 674), (1536, 759, 1568, 789), (1509, 632, 1541, 662), (1525, 761, 1557, 791), (1447, 665, 1479, 695), (1555, 761, 1585, 793), (1897, 761, 1927, 793), (1495, 722, 1525, 754), (1621, 755, 1652, 786), (1789, 764, 1819, 796), (1557, 632, 1589, 662), (1564, 607, 1596, 637), (1569, 653, 1599, 685), (1550, 770, 1580, 801), (1870, 1139, 1902, 1169), (1806, 1127, 1836, 1159), (1559, 1396, 1589, 1428), (1821, 1118, 1852, 1148), (395, 412, 425, 442), (387, 582, 418, 612), (465, 559, 495, 589), (414, 1118, 444, 1148), (460, 980, 490, 1010), (456, 1154, 487, 1184), (609, 173, 639, 203), (527, 161, 557, 191), (625, 88, 655, 119), (564, 202, 594, 232), (612, 182, 642, 212), (534, 743, 564, 773), (899, 679, 929, 709), (635, 830, 665, 860), (931, 662, 961, 692), (633, 692, 663, 722), (600, 598, 630, 628), (515, 655, 545, 685), (943, 736, 973, 766), (649, 1014, 679, 1044), (586, 1180, 616, 1210), (715, 1118, 745, 1148), (787, 1161, 817, 1191), (609, 1189, 639, 1219), (609, 1276, 639, 1306), (773, 1028, 803, 1058), (685, 1274, 715, 1304), (483, 1254, 513, 1284), (508, 1083, 538, 1113), (596, 1603, 626, 1633), (623, 1752, 653, 1782), (506, 1900, 536, 1930), (761, 1608, 791, 1638), (653, 1610, 683, 1640), (669, 1902, 699, 1932), (612, 1645, 642, 1675), (610, 1723, 640, 1753), (550, 1872, 580, 1902), (1118, 159, 1148, 189), (1028, 189, 1058, 219), (1261, 161, 1292, 191), (1233, 134, 1263, 165), (1217, 152, 1247, 182), (1039, 170, 1069, 200), (984, 165, 1014, 195), (1081, 152, 1111, 182), (1185, 145, 1215, 175), (1322, 598, 1352, 628), (1090, 648, 1120, 678), (1313, 614, 1343, 644), (1403, 775, 1433, 805), (1322, 718, 1352, 748), (1053, 658, 1083, 688), (1210, 782, 1240, 812), (1171, 791, 1201, 821), (1316, 740, 1346, 770), (1180, 667, 1210, 697), (1065, 672, 1095, 702), (1083, 754, 1113, 784), (987, 709, 1017, 740), (1155, 614, 1185, 644), (1292, 709, 1322, 740), (1184, 773, 1214, 803), (1194, 612, 1224, 642), (1113, 625, 1143, 655), (1122, 750, 1152, 780), (1148, 672, 1178, 702), (1378, 582, 1408, 612), (1237, 741, 1267, 771), (1178, 732, 1208, 763), (1323, 745, 1353, 775), (1215, 771, 1246, 801), (1189, 649, 1219, 679), (1047, 623, 1077, 653), (1076, 642, 1106, 672), (1313, 713, 1343, 743), (1123, 658, 1154, 688), (1047, 651, 1077, 681), (1371, 711, 1401, 741), (1401, 722, 1431, 752), (977, 648, 1007, 678), (1348, 1451, 1378, 1481), (1596, 94, 1626, 124), (1801, 73, 1831, 103), (1725, 255, 1755, 285), (1744, 260, 1775, 290), (1516, 48, 1546, 78), (1536, 9, 1566, 39), (1877, 34, 1907, 64), (1518, 165, 1548, 195), (1886, 313, 1916, 343), (1686, 25, 1716, 55), (1479, 71, 1509, 101), (1798, 57, 1828, 87), (1445, 111, 1476, 142), (1782, 591, 1812, 621), (1759, 561, 1789, 591), (1881, 649, 1911, 679), (1790, 745, 1821, 775), (1484, 619, 1514, 649), (1534, 582, 1564, 612), (1796, 573, 1826, 603), (1900, 630, 1930, 660), (1675, 678, 1706, 708), (1514, 771, 1545, 801), (1727, 529, 1757, 559), (1713, 633, 1743, 663), (1801, 1238, 1831, 1269), (1868, 1256, 1898, 1286), (1744, 1143, 1775, 1173), (1796, 1253, 1826, 1283), (1732, 1139, 1762, 1169), (1730, 1552, 1760, 1582), (911, 172, 943, 200), (632, 262, 660, 294), (589, 1026, 617, 1058), (1141, 159, 1173, 188), (1403, 42, 1435, 71), (1177, 630, 1208, 658), (1189, 632, 1221, 660), (1293, 727, 1322, 759), (1437, 103, 1465, 134), (642, 1622, 671, 1652), (1219, 136, 1247, 166), (959, 129, 987, 159), (1240, 628, 1269, 658), (1440, 117, 1468, 147), (1619, 69, 1647, 99), (1598, 632, 1628, 660)
inflammatory: (1504, 708, 1534, 740)
lymphocyte: (1184, 157, 1215, 189), (1023, 131, 1054, 163), (1242, 764, 1274, 796), (987, 648, 1019, 679), (1387, 741, 1419, 773), (1251, 770, 1283, 801), (1341, 771, 1373, 803), (1231, 775, 1263, 807), (1040, 644, 1072, 676), (991, 694, 1023, 725), (1364, 701, 1396, 732), (984, 639, 1016, 671), (1502, 244, 1534, 276), (1684, 1621, 1716, 1652), (941, 103, 971, 134), (639, 1704, 671, 1734), (1017, 122, 1049, 152), (1100, 157, 1132, 188), (1104, 119, 1134, 150), (1391, 276, 1421, 308), (1139, 754, 1169, 786), (1099, 602, 1129, 633), (1065, 639, 1097, 669), (1159, 681, 1191, 711), (1320, 674, 1352, 704), (1258, 586, 1288, 617), (1058, 665, 1088, 697), (1318, 665, 1348, 697), (1100, 782, 1131, 814), (1900, 281, 1930, 313), (1569, 50, 1601, 80), (1461, 773, 1491, 805), (1552, 794, 1582, 826), (1706, 1635, 1736, 1667), (1780, 1591, 1810, 1622), (1730, 1580, 1760, 1612), (1752, 1592, 1783, 1622), (504, 281, 534, 311), (1113, 681, 1143, 711), (1090, 630, 1120, 660), (1185, 738, 1215, 768), (1226, 667, 1256, 697), (1414, 734, 1444, 764), (1169, 729, 1200, 759), (1058, 573, 1088, 603), (1398, 745, 1428, 775), (1330, 729, 1361, 759), (1506, 175, 1536, 205), (1437, 732, 1467, 763), (1226, 768, 1256, 796)
